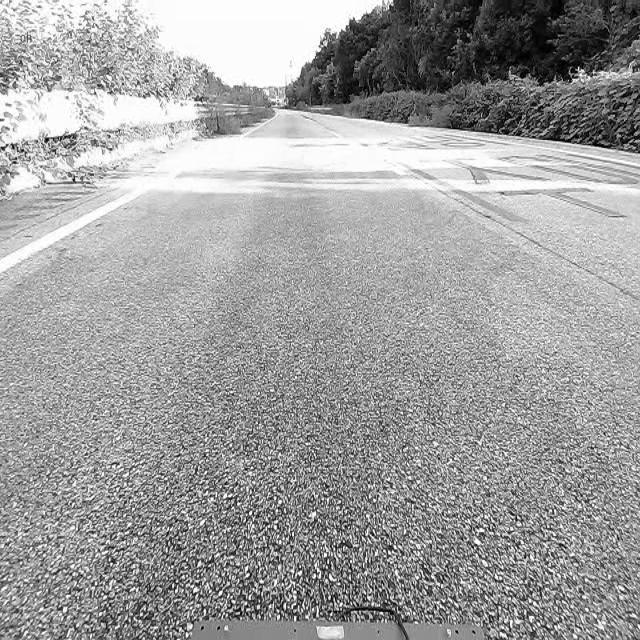Lane: (0, 178, 152, 278), (0, 187, 147, 276)
